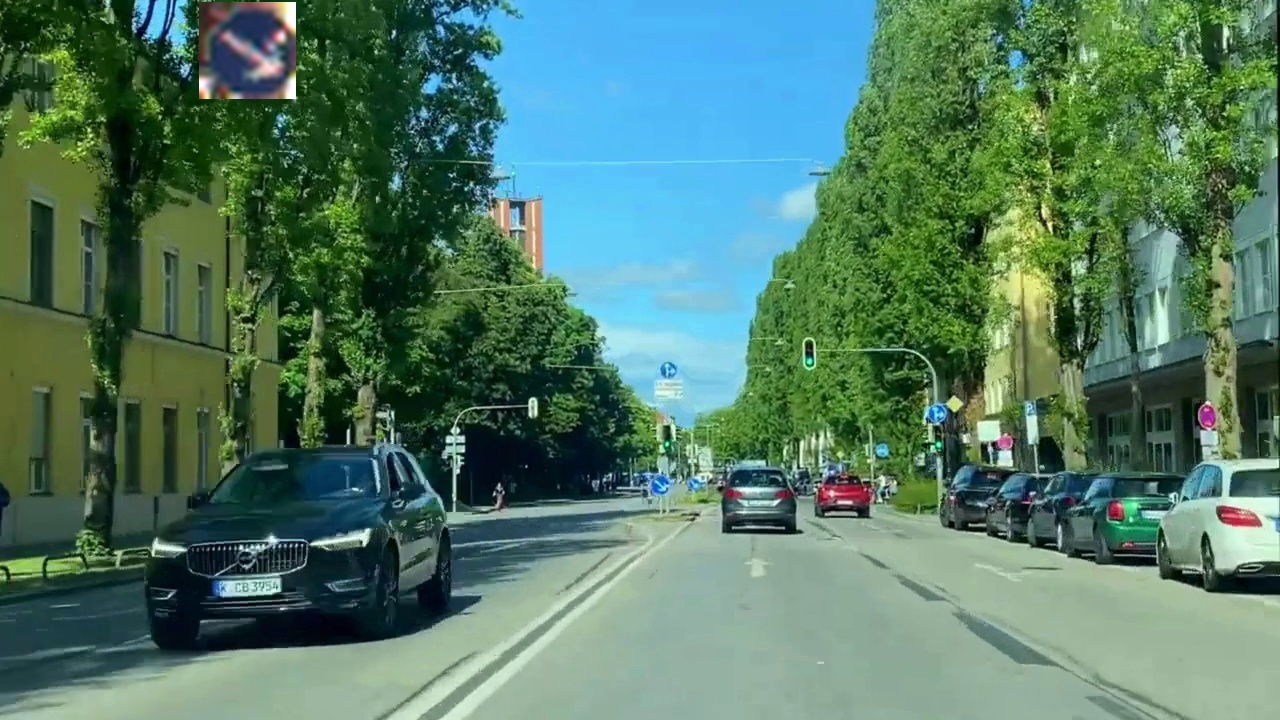Keep right: (199, 2, 296, 99)
